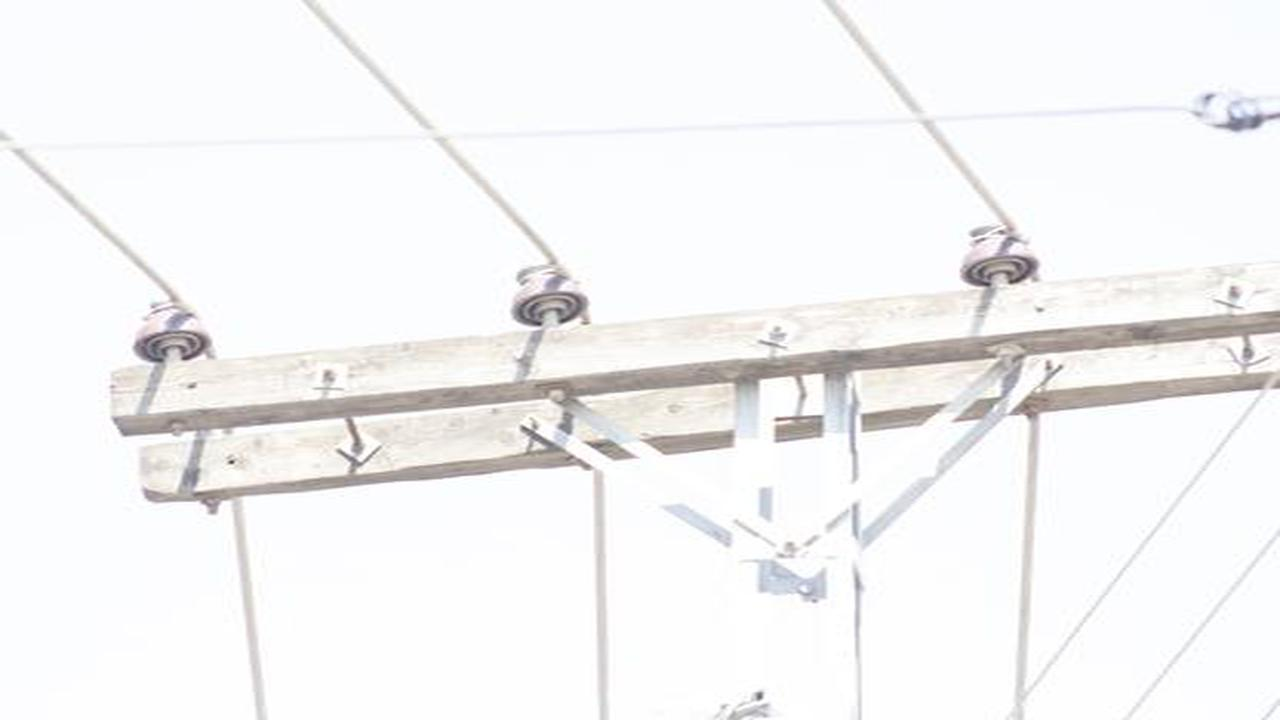insulator_pin: (954, 218, 1043, 289), (509, 258, 593, 326), (133, 297, 213, 361)
